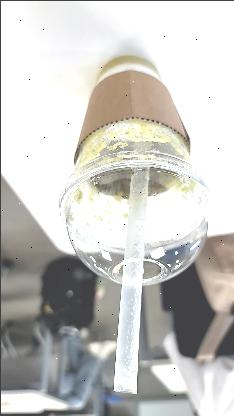Others: (59, 55, 215, 284), (57, 150, 216, 284), (110, 165, 152, 399)
